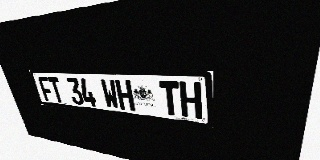3: (66, 78, 85, 105)
4: (78, 78, 97, 107)
F: (37, 77, 55, 102)
H: (179, 82, 202, 119), (115, 79, 135, 111)
T: (159, 81, 181, 116), (47, 77, 65, 103)
W: (100, 79, 120, 109)
